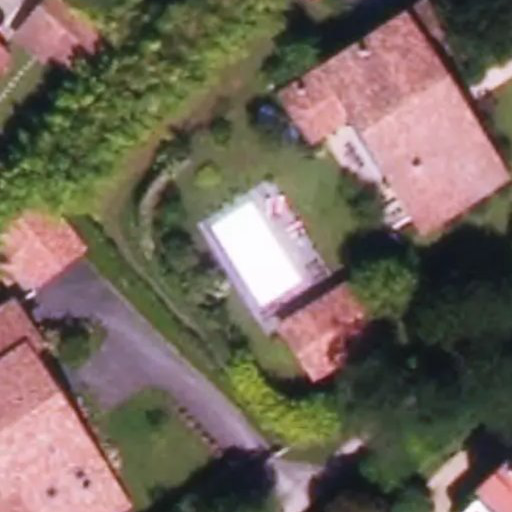pool: (207, 212, 303, 271)
